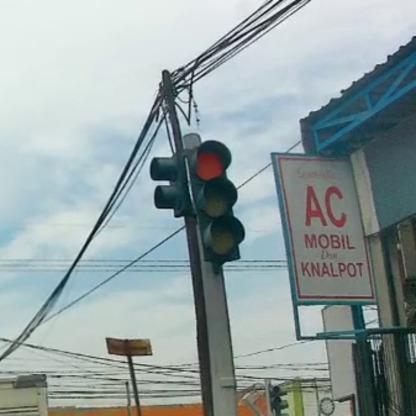red: (185, 137, 248, 262)
